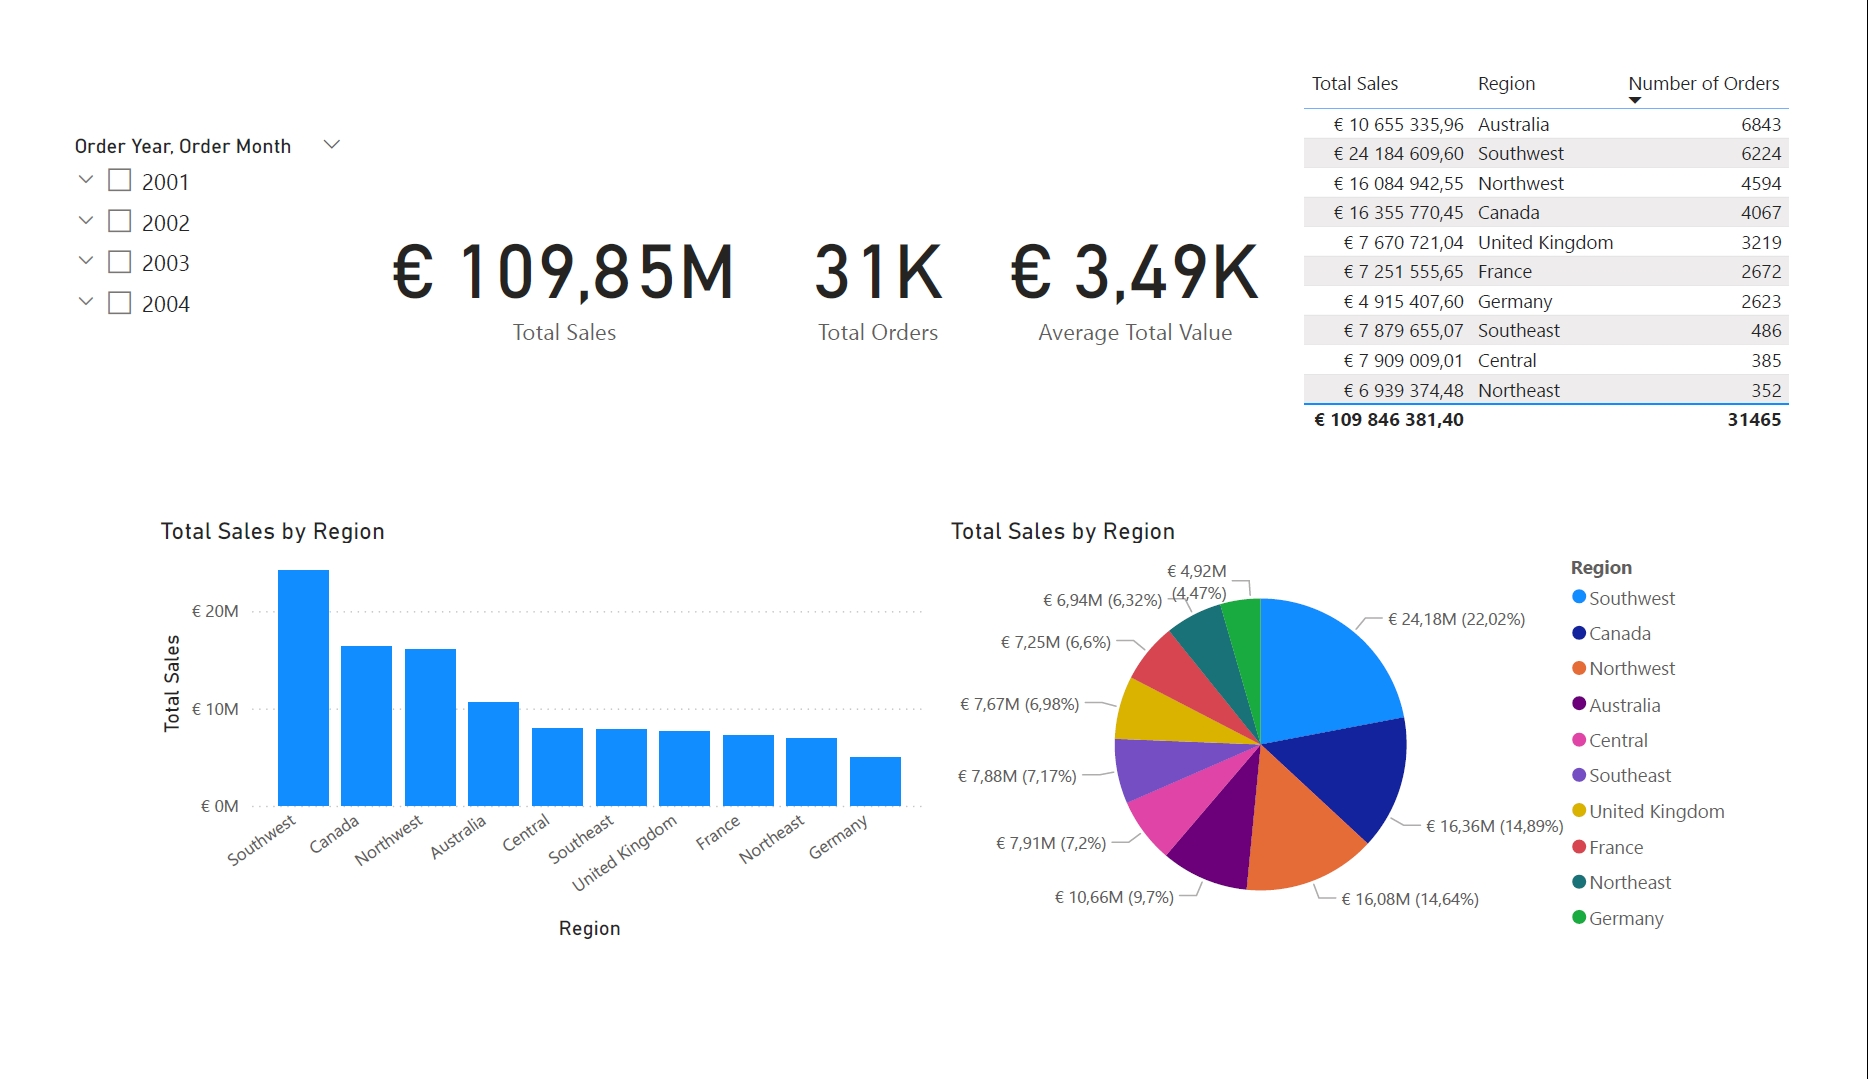

The dashboard page shown, as its layout file describes it:
{"tool":"powerbi","page":{"name":"tactical","canvas":[1280,720],"ordinal":2},"visuals":[{"type":"card","fields":{"Values":["Sales SalesOrderDetail.Total Sales"]},"box":[231.9,49.6,290.9,246.7],"z":0},{"type":"slicer","fields":{"Values":["Sales SalesOrderHeader.OrderYear","Sales SalesOrderHeader.OrderMonth"]},"box":[15.8,66.9,215.2,211.6],"z":1000},{"type":"card","fields":{"Values":["Sales SalesOrderHeader.Total Orders"]},"box":[521.2,50.2,159.3,245.6],"z":2000},{"type":"card","fields":{"Values":["Sales SalesOrderDetail.Average Total Value"]},"box":[680.3,50.2,206.7,245.6],"z":3000},{"type":"clusteredColumnChart","fields":{"Category":["Sales SalesTerritory.Name"],"Y":["Sum(Sales SalesOrderDetail.LineTotal)"]},"box":[85.1,342.9,554.4,306.4],"z":4000},{"type":"tableEx","fields":{"Values":["Sum(Sales SalesOrderDetail.LineTotal)","Sales SalesTerritory.Name","Sales SalesOrderHeader.Number of Orders"]},"box":[898.5,19.8,368.4,306.4],"z":5000},{"type":"pieChart","fields":{"Category":["Sales SalesTerritory.Name"],"Y":["Sales SalesOrderDetail.Total Sales"]},"box":[646.8,342.9,570.2,306.4],"z":6000}]}

Visuals, with their boxes in screenshot pixels (x1, y1, x2, y2), scaled from the page's 1280x720 canvas onto the 1868x1079 screenshot:
card - Sales SalesOrderDetail.Total Sales: <region>338, 74, 763, 444</region>
slicer - Sales SalesOrderHeader.OrderYear x Sales SalesOrderHeader.OrderMonth: <region>23, 100, 337, 417</region>
card - Sales SalesOrderHeader.Total Orders: <region>761, 75, 993, 443</region>
card - Sales SalesOrderDetail.Average Total Value: <region>993, 75, 1294, 443</region>
clusteredColumnChart - Sales SalesTerritory.Name x Sum(Sales SalesOrderDetail.LineTotal): <region>124, 514, 933, 973</region>
tableEx - Sum(Sales SalesOrderDetail.LineTotal) x Sales SalesTerritory.Name: <region>1311, 30, 1849, 489</region>
pieChart - Sales SalesTerritory.Name x Sales SalesOrderDetail.Total Sales: <region>944, 514, 1776, 973</region>
